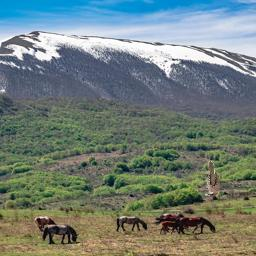Cuckoo: (206, 162, 221, 197)
